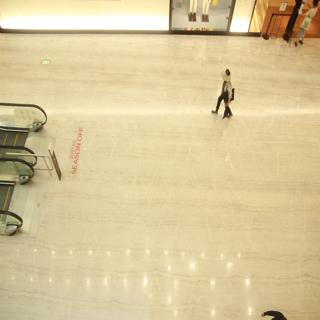person: (208, 59, 242, 124)
